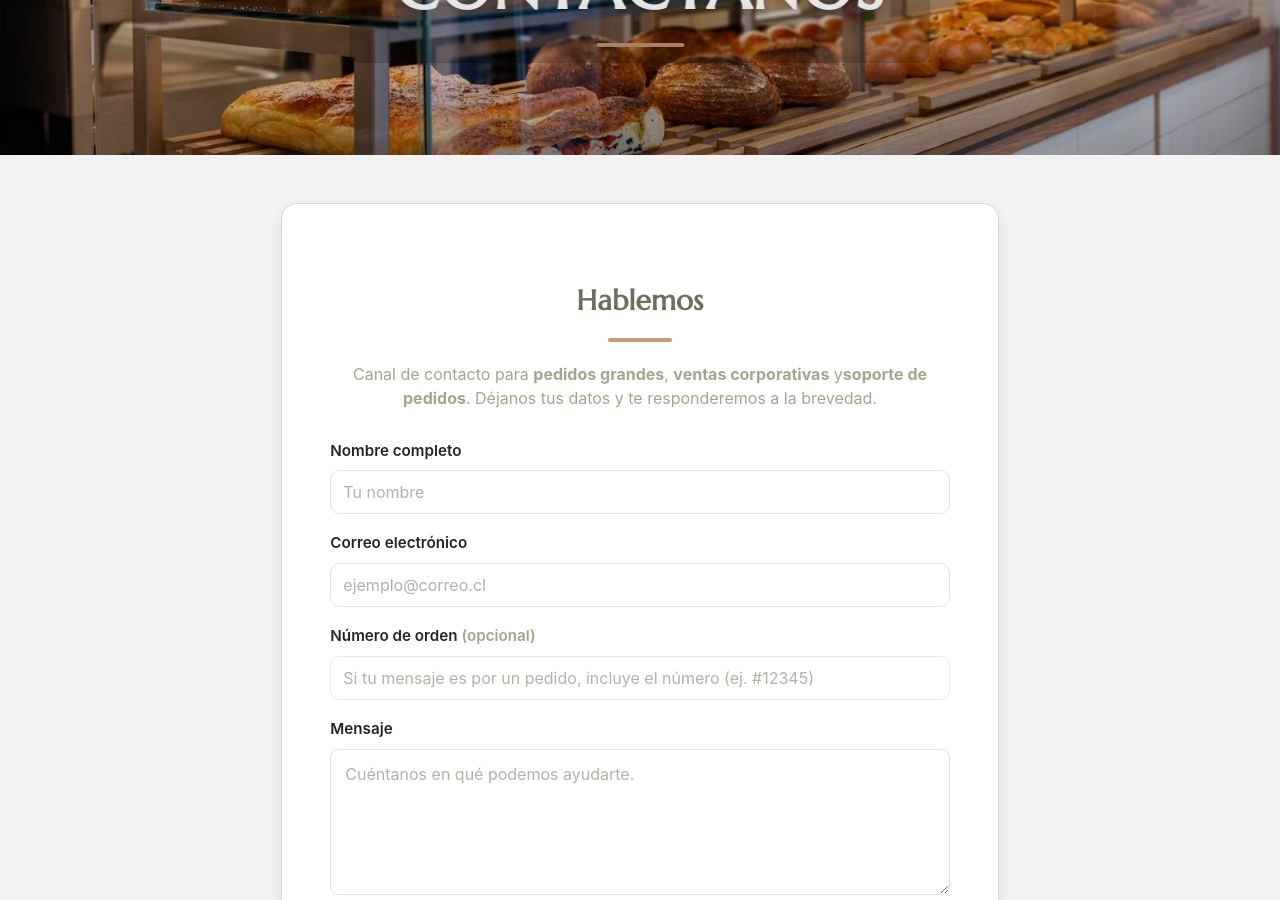
Contacto.jsx › muestra mensaje de éxito al enviar formulario válido
(page scrolled)
Type "Pedro" into the field labelled "Nombre completo".
click(640, 492); type("Pedro")  # box [330, 470, 950, 514]
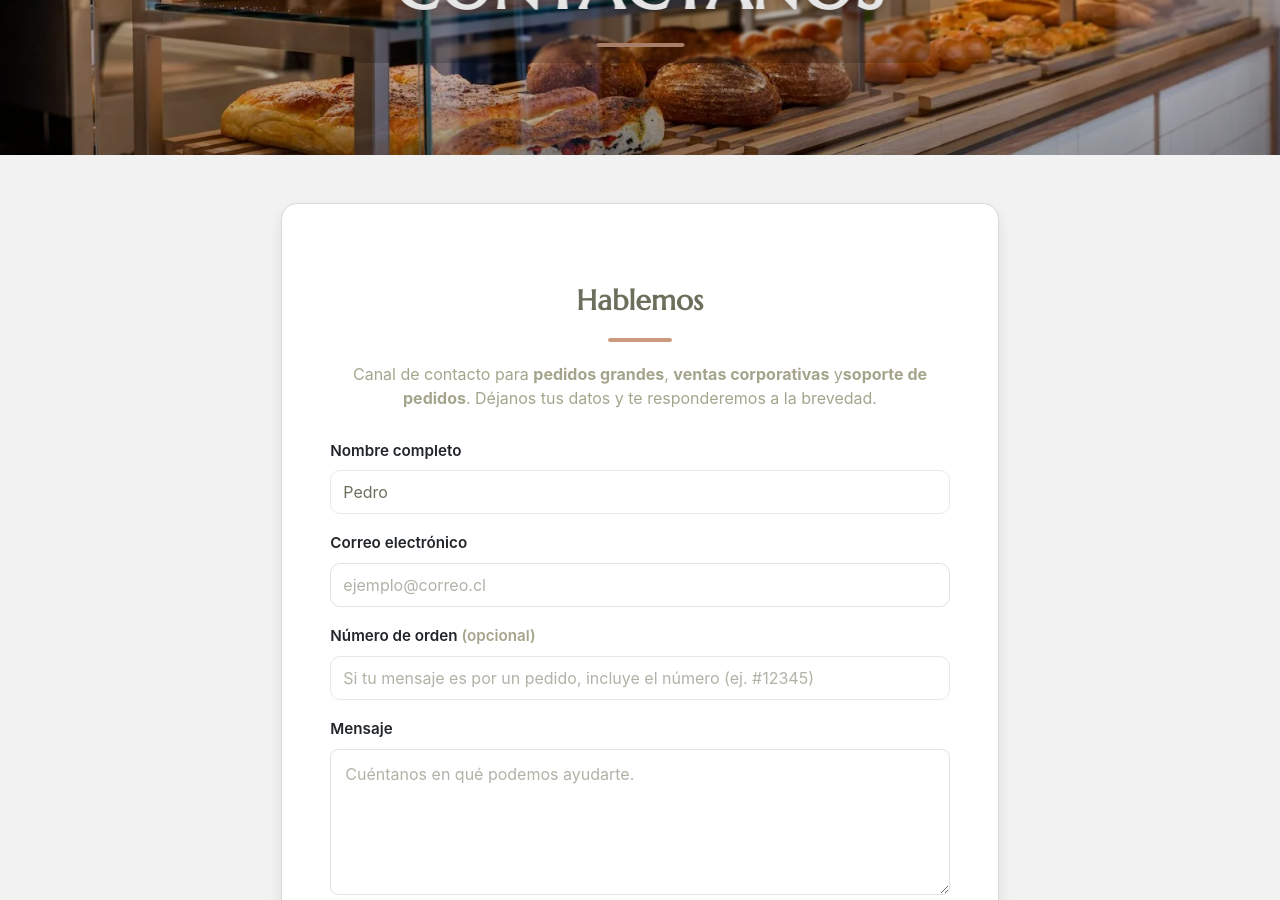
Type "pedro@correo.cl" into the field labelled "Correo electrónico".
click(640, 585); type("pedro@correo.cl")  # box [330, 563, 950, 607]
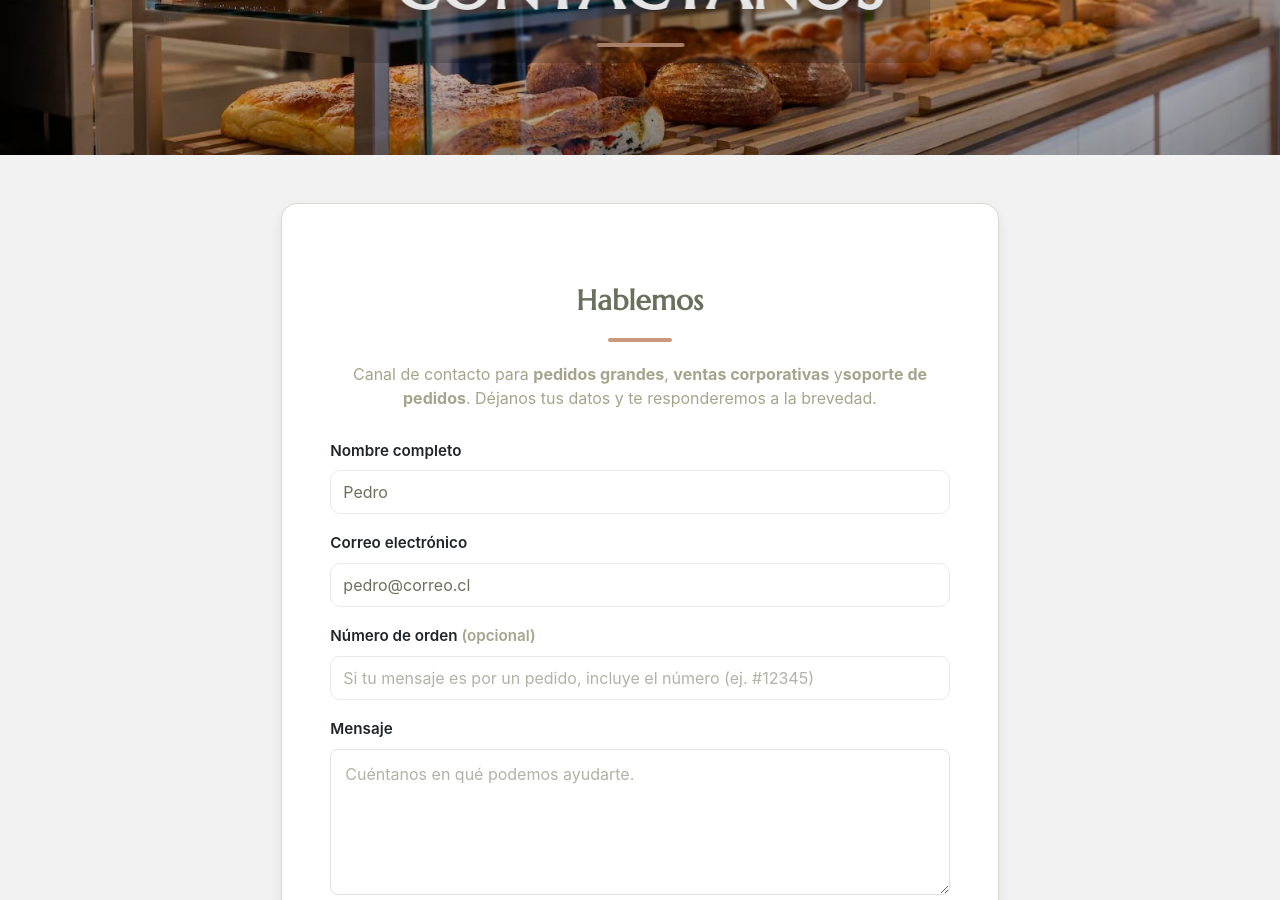
Type "Hola, quiero hacer un pedido grande" into the text box labelled "Mensaje".
click(640, 822); type("Hola, quiero hacer un pedido grande")  # box [330, 749, 950, 895]
(page scrolled)
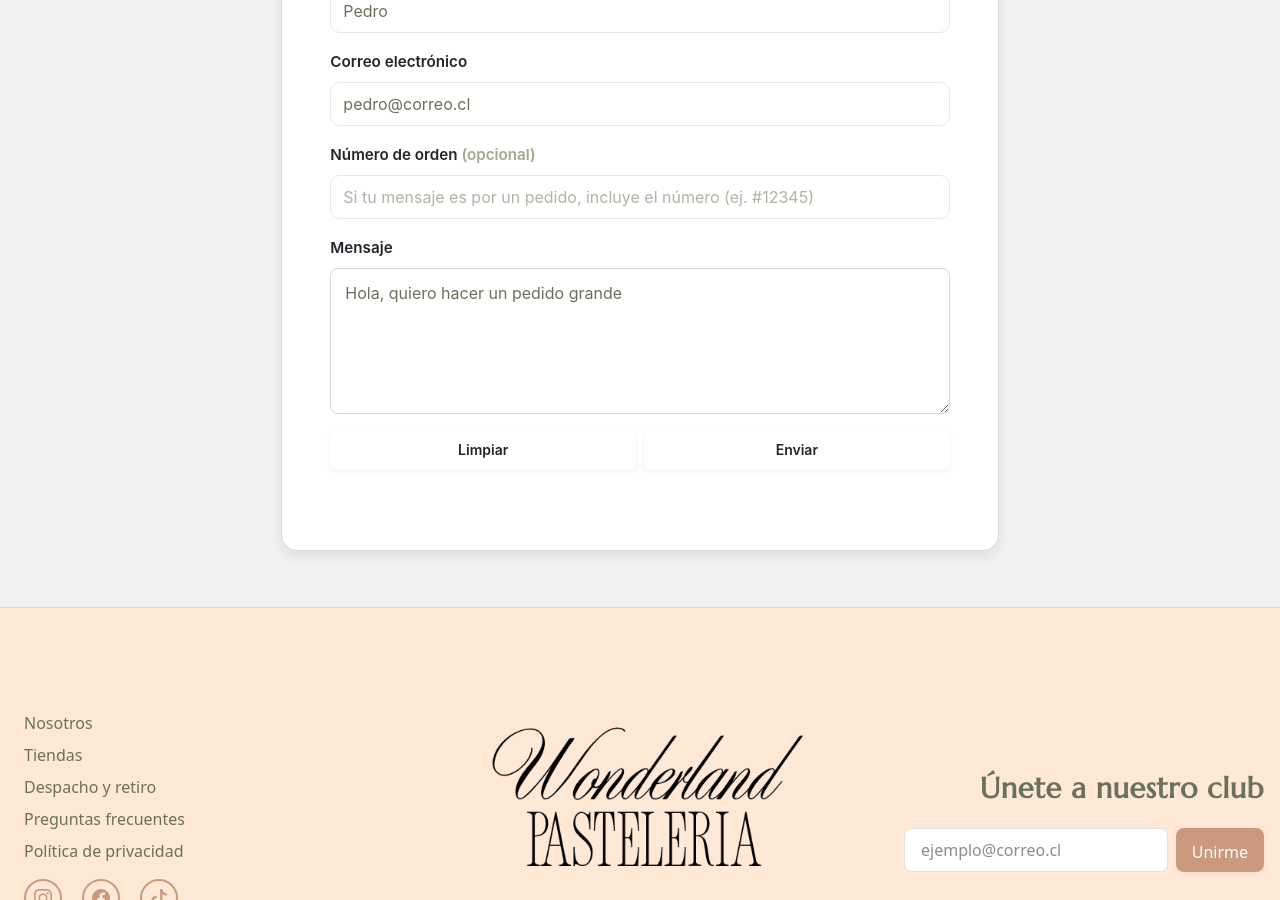
Click the button "Enviar".
click(797, 450)  # box [644, 430, 950, 470]
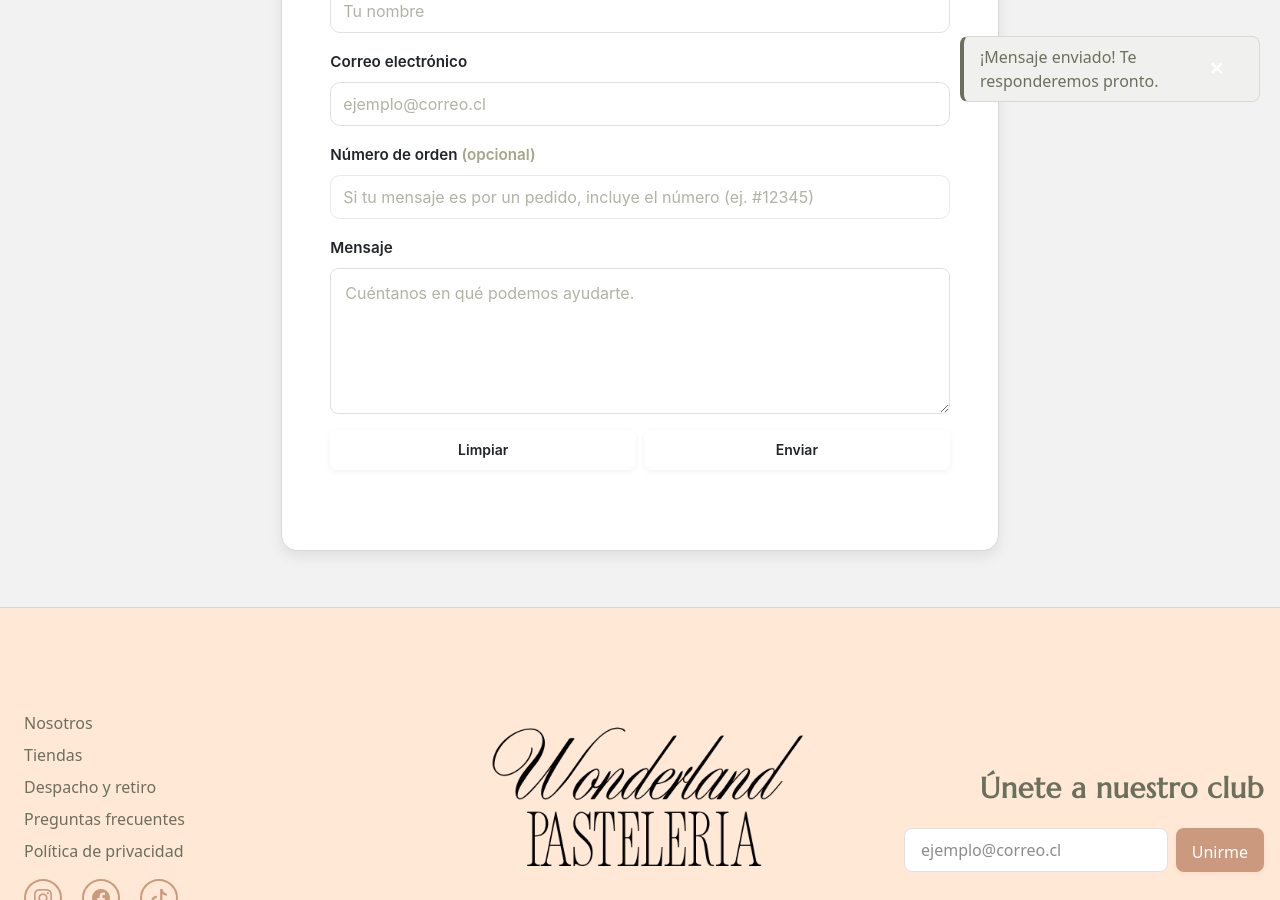
Check: the text "¡Mensaje enviado! Te responderemos pronto." is shown, box [980, 45, 1180, 93]
